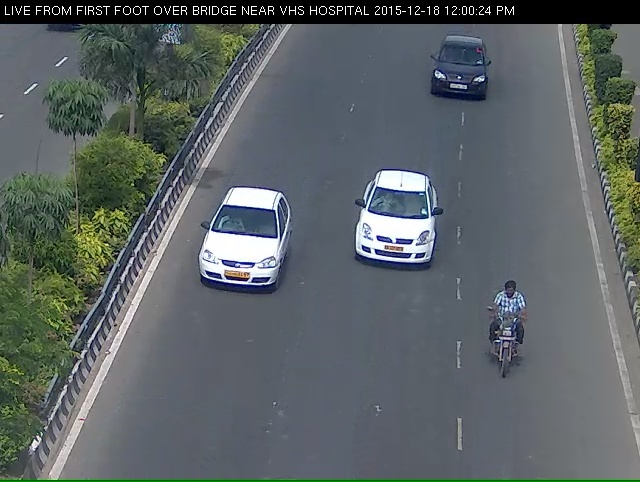Car: (199, 195, 292, 314), (351, 182, 438, 290), (422, 33, 502, 121)
Person: (485, 288, 532, 400)
